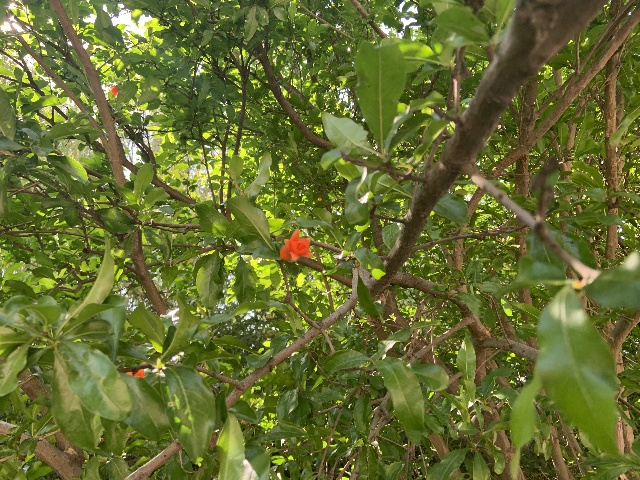flower: (280, 228, 312, 261), (123, 363, 146, 376), (110, 85, 118, 97)
